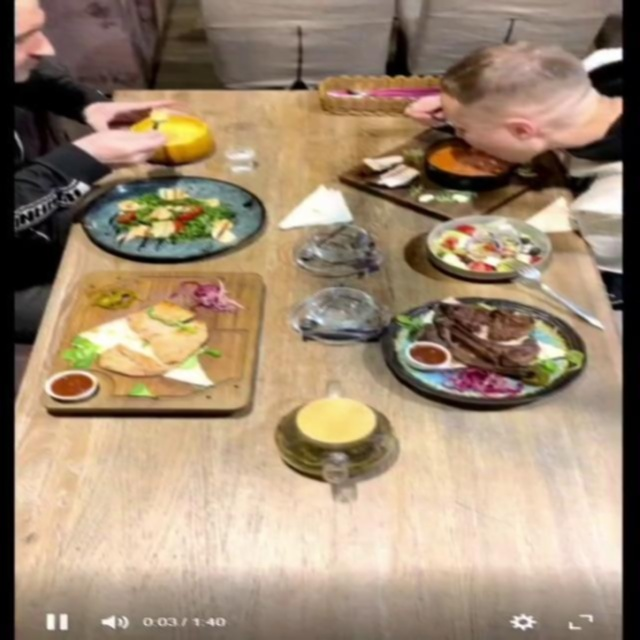meat: (42, 273, 266, 412), (379, 296, 589, 406)
salad: (77, 176, 265, 260), (427, 214, 554, 280)
soup: (337, 129, 567, 221), (127, 112, 217, 164)
tea: (273, 395, 398, 480)
